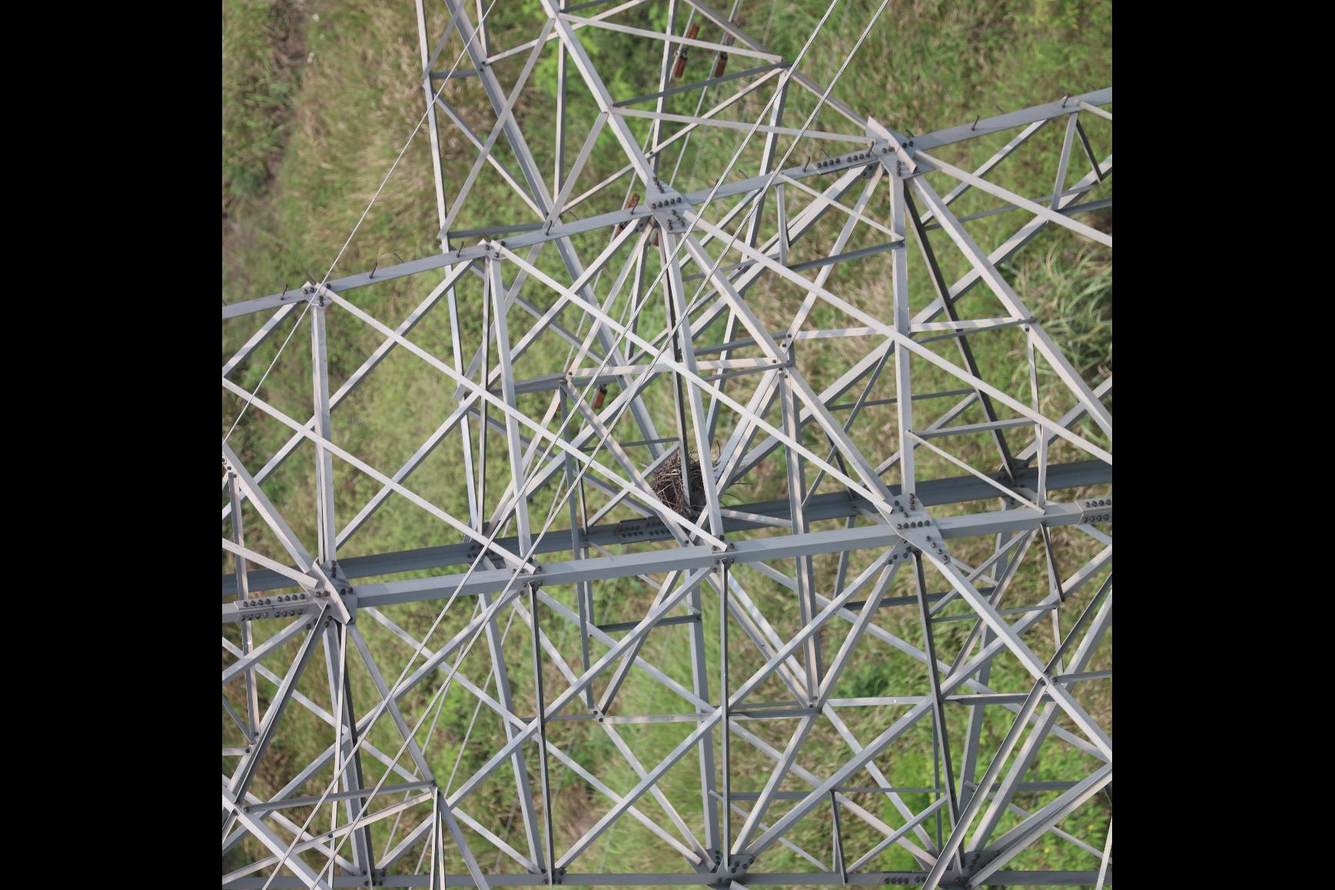damper: (667, 18, 702, 82), (709, 28, 739, 81)
nest: (649, 448, 711, 518)
